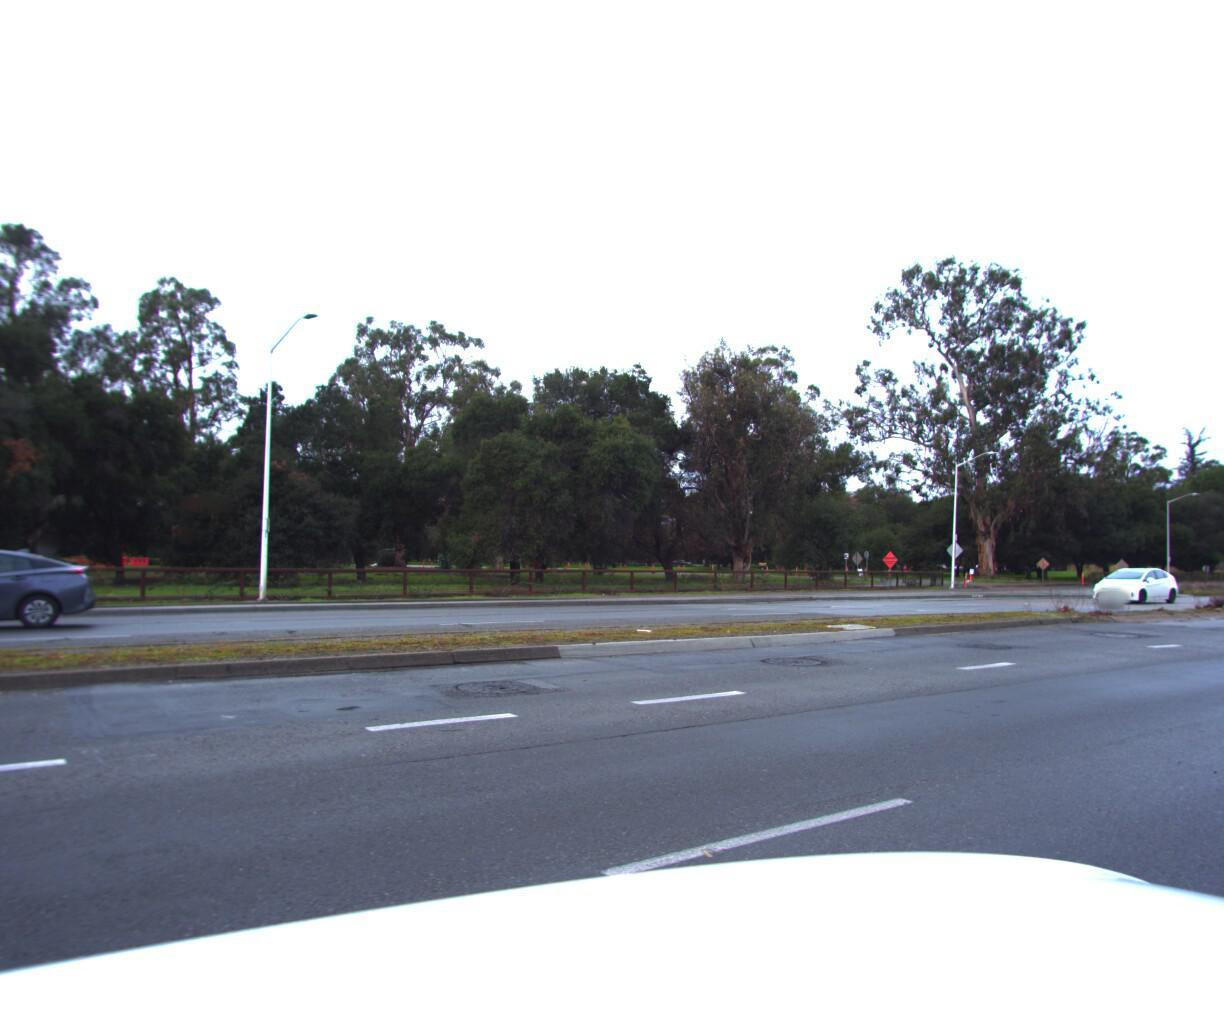car: (0, 539, 116, 641), (1081, 567, 1180, 608)
